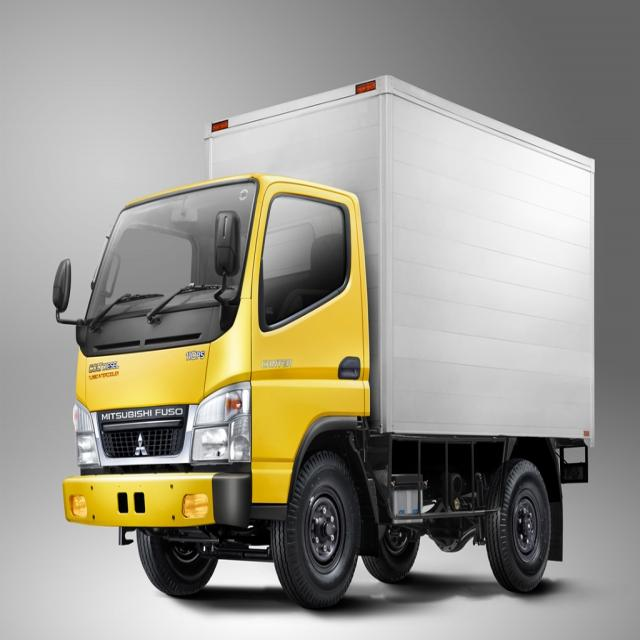truck: (51, 73, 594, 590)
